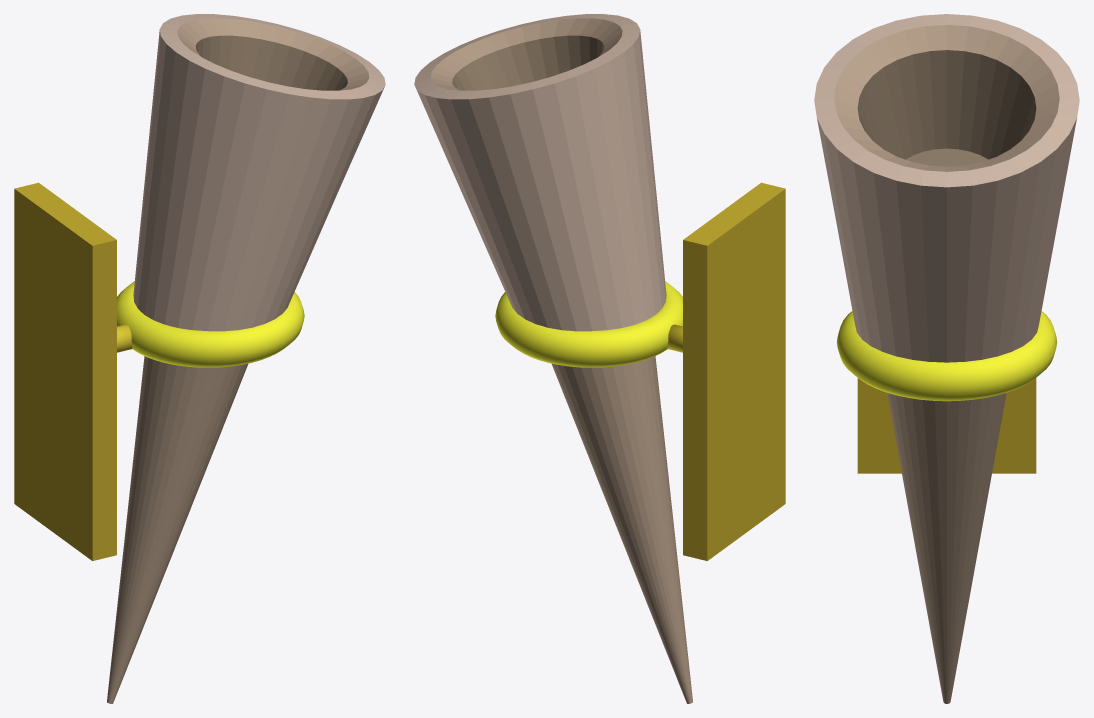
Rendered from mural_torch.fbx.
3 renders of one model, left to right at view 1: azimuth 30°, elevation 25°; view 2: azimuth 150°, elevation 25°; view 3: azimuth 270°, elevation 25°, orthographic. The views are drawn at different scales.
Visible parts, largest first — view 1: mural_torch; view 2: mural_torch; view 3: mural_torch.
Part boxes in pixels (x1,y1,x2,y2): mural_torch: (14, 14, 385, 703); mural_torch: (414, 14, 785, 703); mural_torch: (814, 14, 1079, 703).
Size of the model in its own units: 1.47 by 2.81 by 0.9341.
